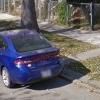Car: (2, 23, 72, 90)
